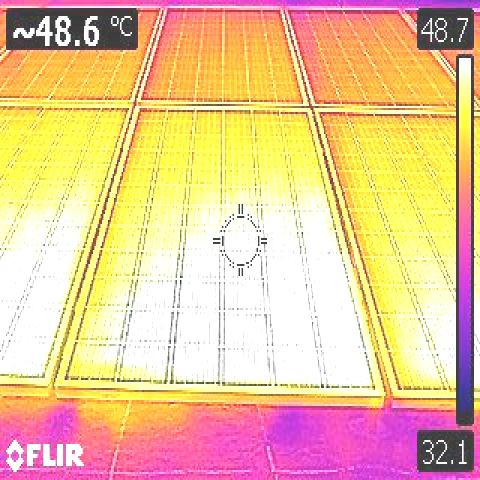fault: (264, 254, 358, 384), (0, 208, 53, 378)
